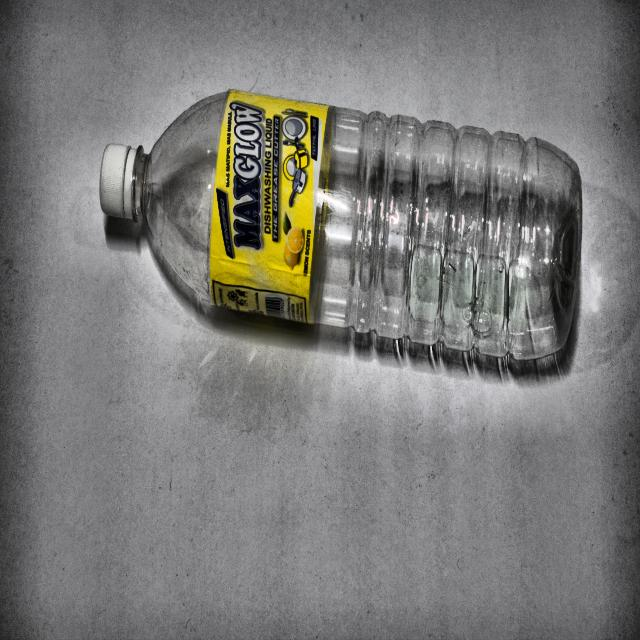Bottles: (82, 74, 602, 376)
